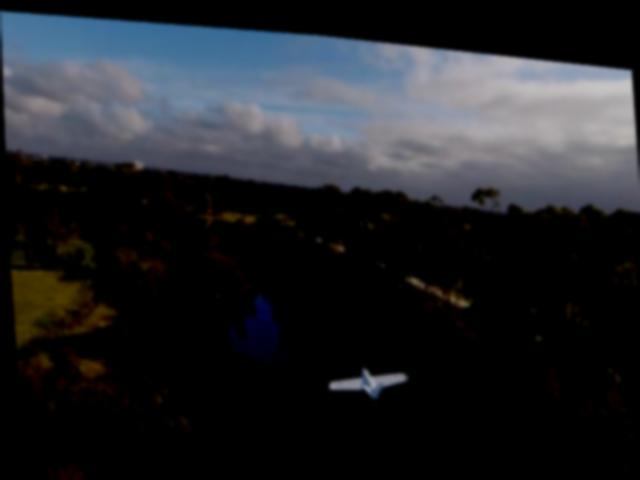uav: (325, 353, 409, 407)
